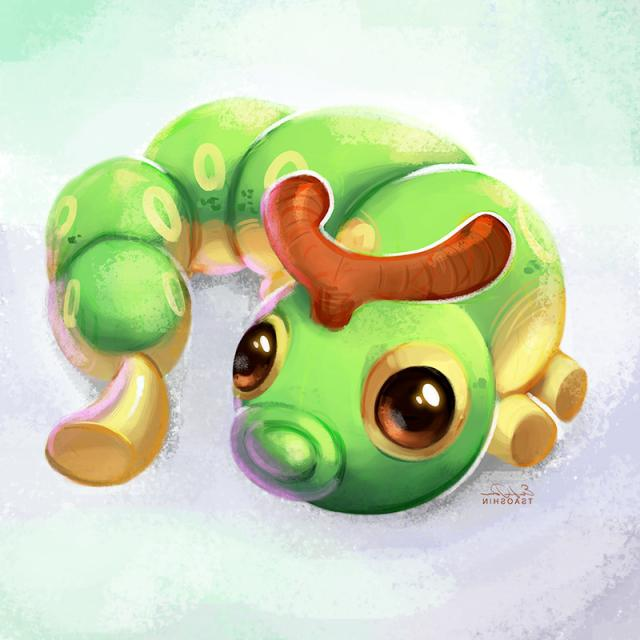Caterpie: (36, 90, 599, 536)
